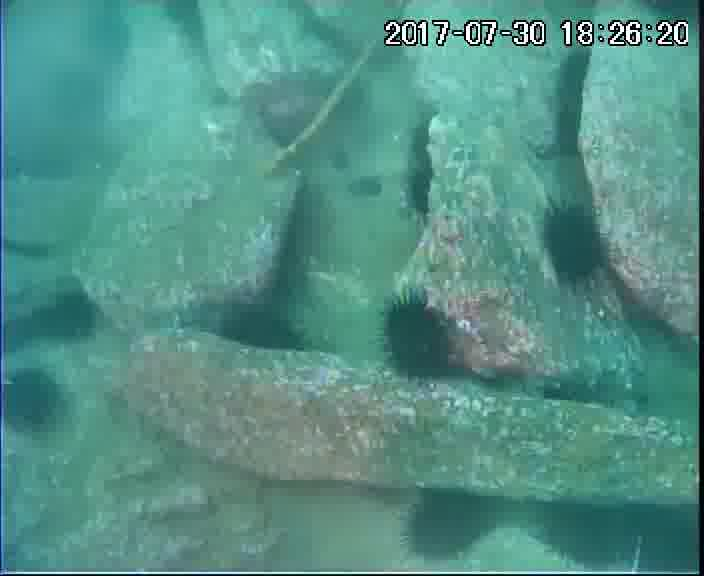echinus: (542, 496, 638, 573), (403, 485, 496, 564), (384, 295, 454, 379), (633, 503, 704, 576), (544, 203, 606, 286), (216, 302, 305, 352), (1, 367, 62, 435), (555, 46, 591, 161), (44, 288, 100, 343), (404, 161, 438, 221), (408, 118, 438, 170)
